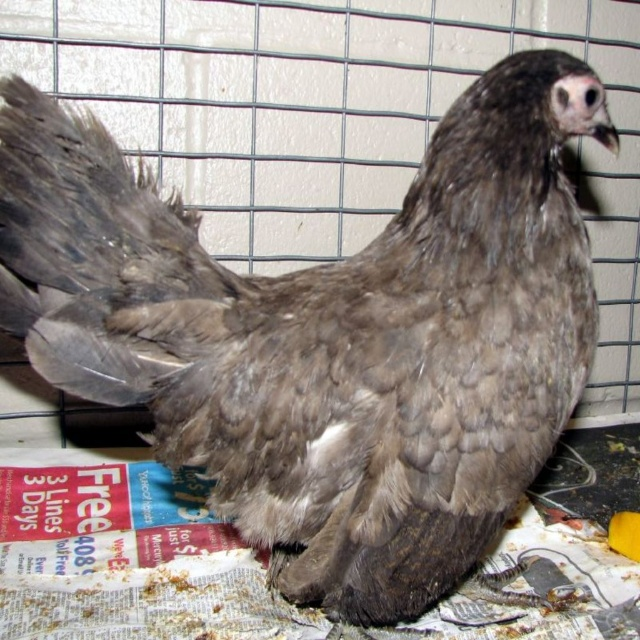Chicken: (28, 30, 606, 640)
